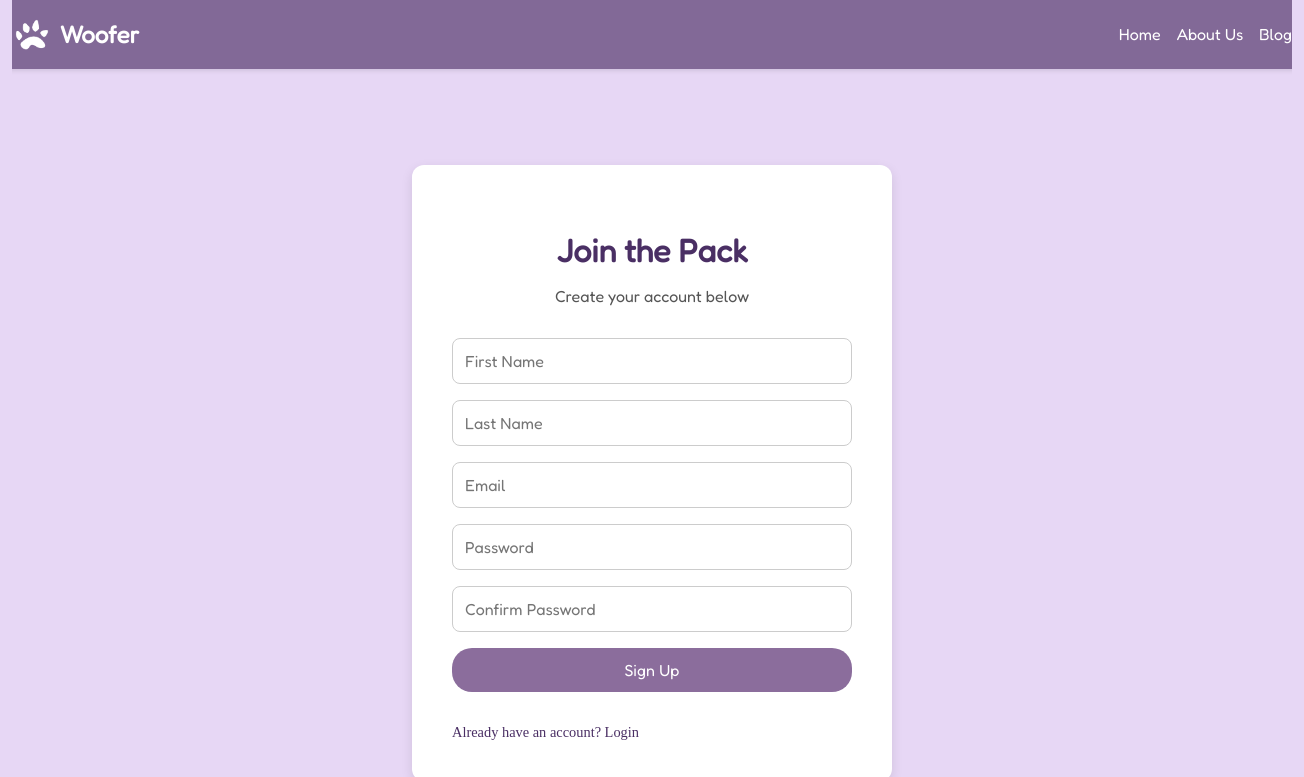
Signup form › displays error if required fields are missing
Click the button "Sign Up" at (652, 670), box x1=452 y1=648 x2=852 y2=692
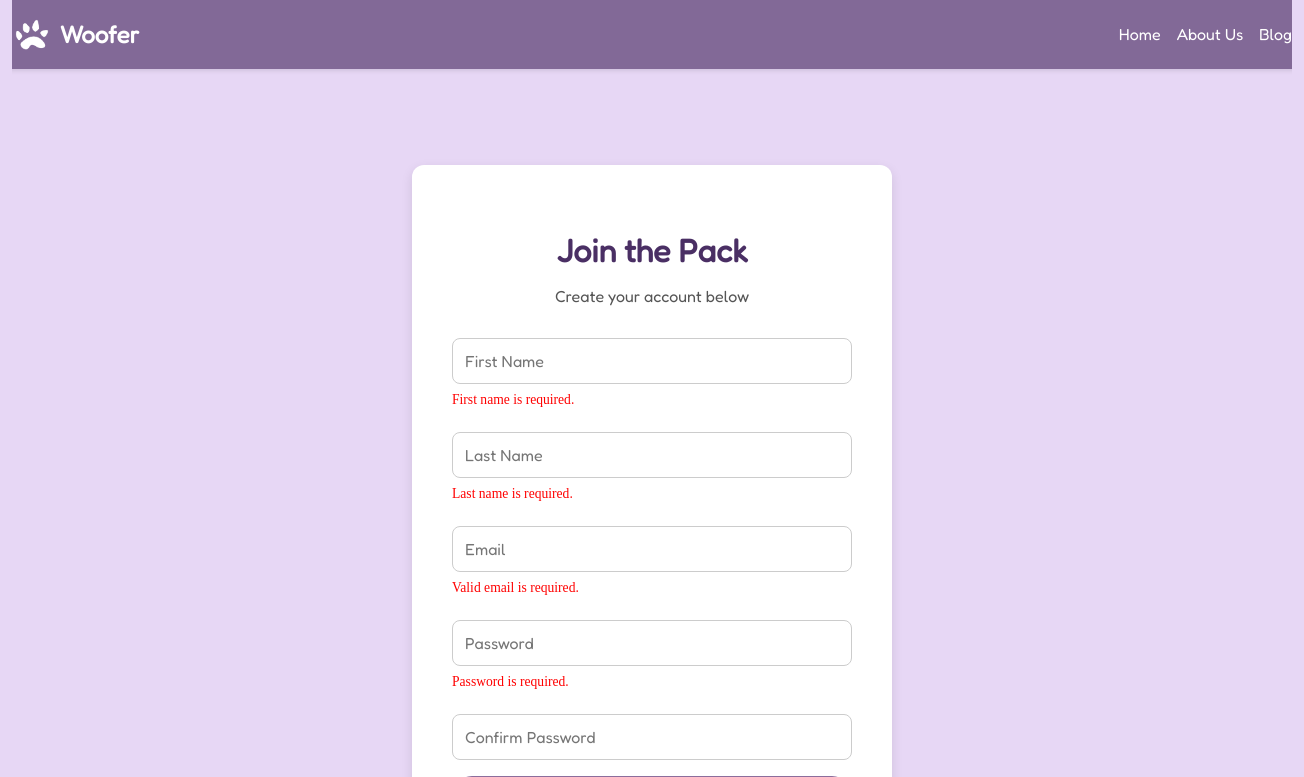
Check: the text "First name is required." is shown, box x1=452 y1=392 x2=574 y2=407
Check: the text "Last name is required." is shown, box x1=452 y1=486 x2=573 y2=501
Check: the text "Valid email is required." is shown, box x1=452 y1=580 x2=579 y2=595
